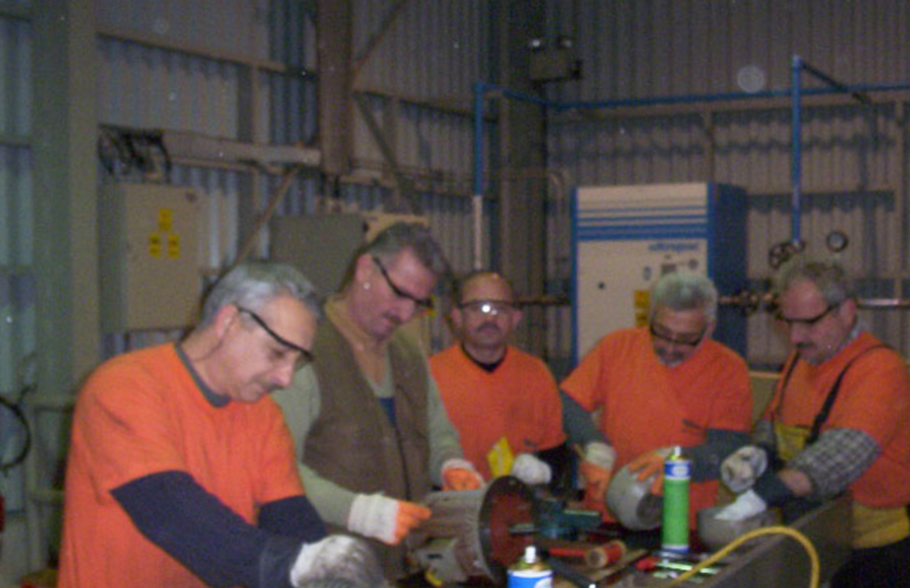safety_helmet: (603, 441, 719, 533), (603, 453, 669, 532)
